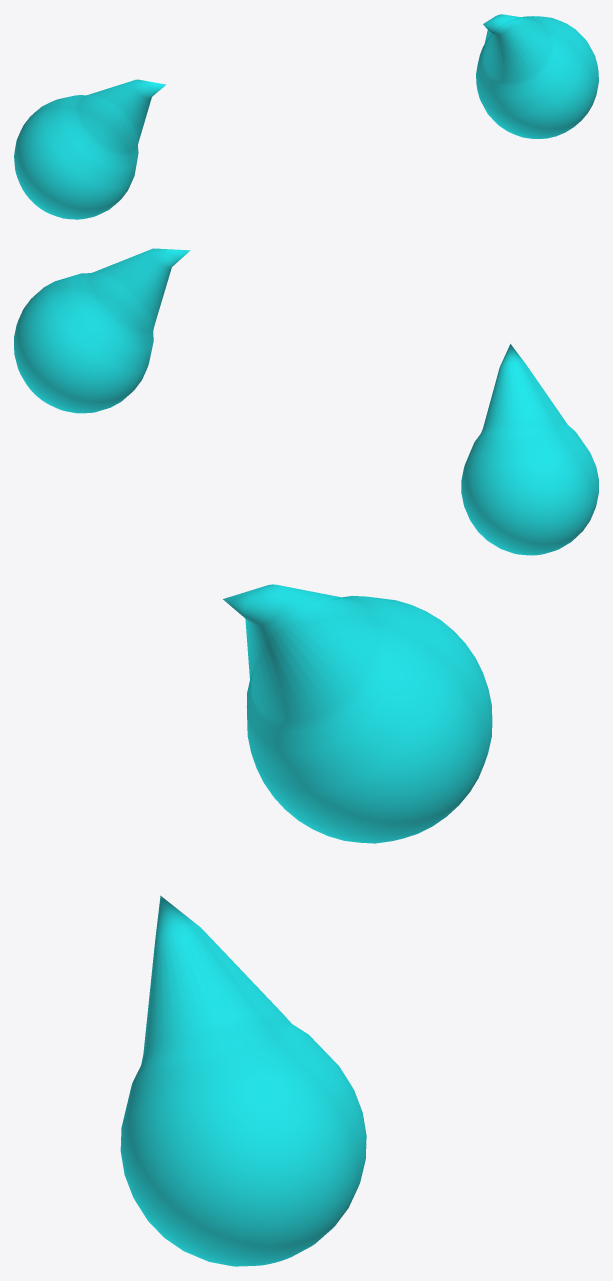
The model's file is item-tears.glb.
3 renders of one model, top to bottom at view 1: azimuth 30°, elevation 25°; view 2: azimuth 150°, elevation 25°; view 3: azimuth 270°, elevation 25°, orthographic. The views are drawn at different scales.
Bounding box in the file's own units: 0.1844 × 0.0473 × 0.0553.
